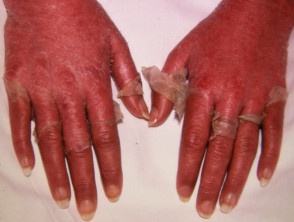SJS-TEN: (0, 0, 158, 173), (135, 19, 294, 161)
